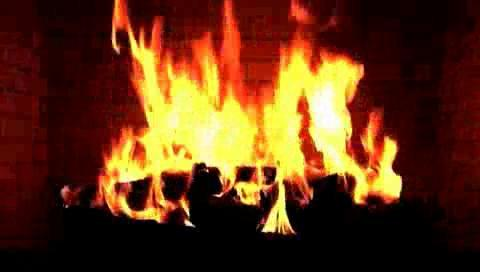fire: (97, 21, 397, 221)
